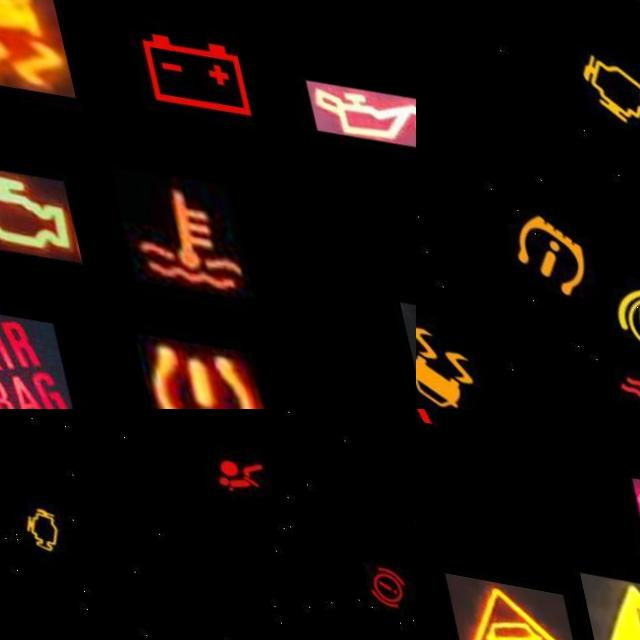Central Warning lamp: (560, 564, 640, 640), (386, 279, 416, 409)
Engine cooling system: (101, 153, 241, 288)
